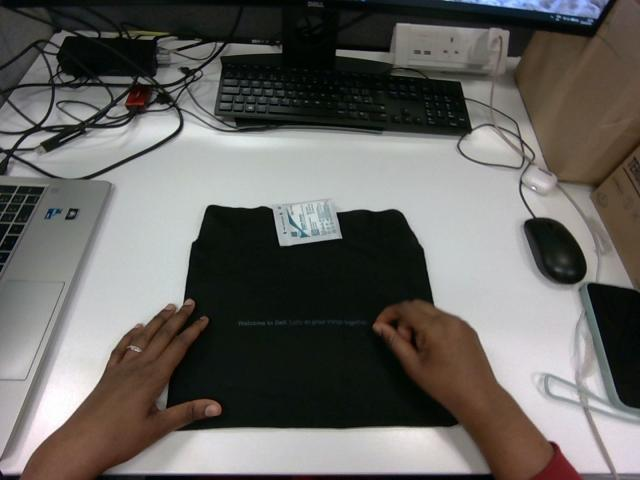gauze: (274, 200, 341, 246)
